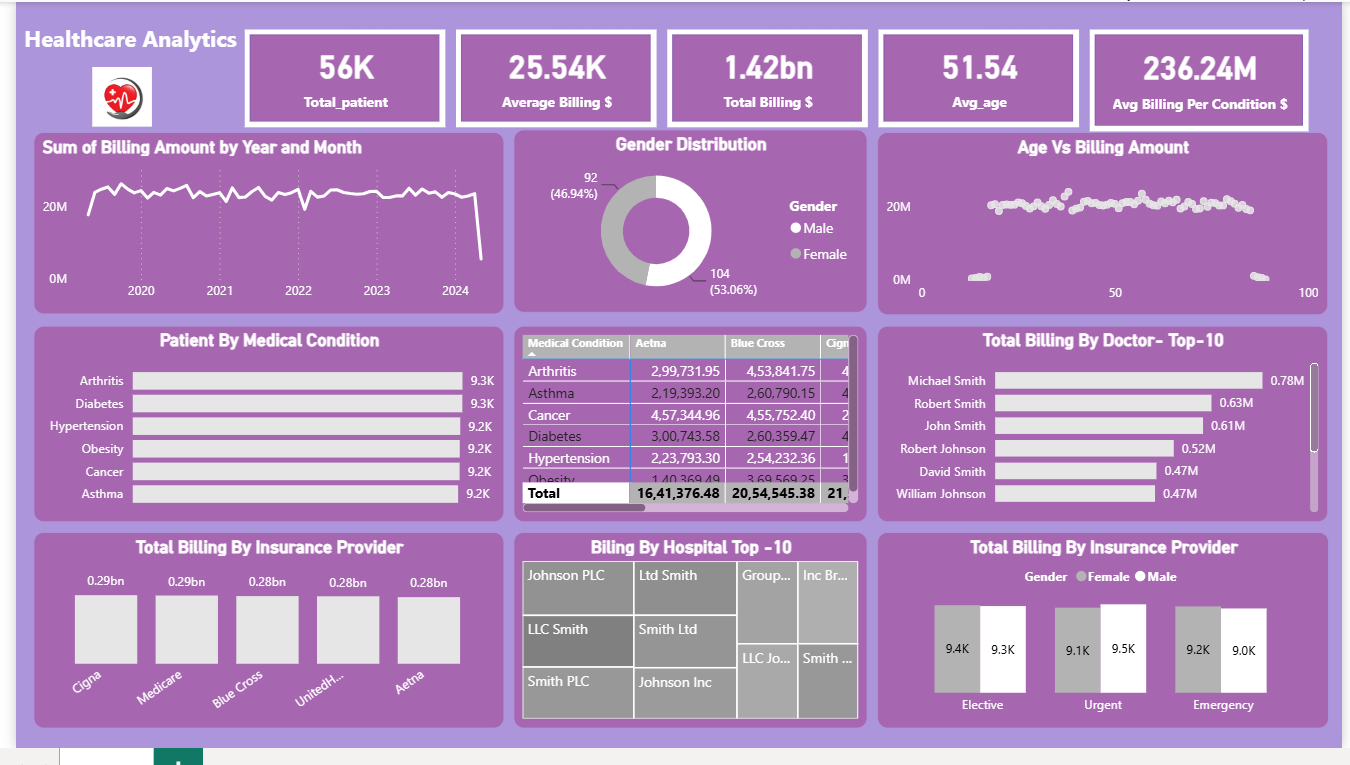

This screenshot's page, from the dashboard's own definition file:
{"tool":"powerbi","page":{"name":"Page 1","canvas":[1280,720],"ordinal":0},"visuals":[{"type":"cardVisual","fields":{"Data":["healthcare_dataset.Avg_billing_per_condition"]},"box":[1036,26.1,211.3,98.8],"z":1000},{"type":"cardVisual","fields":{"Data":["healthcare_dataset.Total_patient"]},"box":[220.4,26.1,193.5,94.7],"z":2000},{"type":"cardVisual","fields":{"Data":["healthcare_dataset.Avg_billing"]},"box":[424.3,26.1,193.5,94.7],"z":3000},{"type":"cardVisual","fields":{"Data":["healthcare_dataset.total_billing"]},"box":[628.2,26.1,193.5,94.7],"z":4000},{"type":"cardVisual","fields":{"Data":["healthcare_dataset.Avg_age"]},"box":[832.1,26.1,193.5,94.7],"z":5000},{"type":"lineChart","fields":{"Y":["Sum(healthcare_dataset.Billing Amount)"],"Category":["healthcare_dataset.Date of Admission.Variation.Date Hierarchy.Year","healthcare_dataset.Date of Admission.Variation.Date Hierarchy.Month"]},"box":[16.5,124.9,454.2,175.6],"z":6000},{"type":"clusteredBarChart","title":"Patient By Medical Condition","fields":{"Category":["healthcare_dataset.Medical Condition"],"Y":["CountNonNull(healthcare_dataset.Name)"]},"box":[16.5,312.9,454.2,189.4],"z":7000},{"type":"clusteredColumnChart","title":"Total Billing By Insurance Provider","fields":{"Category":["healthcare_dataset.Insurance Provider"],"Y":["Sum(healthcare_dataset.Billing Amount)"]},"box":[16.5,511.8,454.2,189.4],"z":8000},{"type":"clusteredBarChart","title":"Total Billing By Doctor- Top-10","fields":{"Category":["healthcare_dataset.Doctor"],"Y":["Sum(healthcare_dataset.Billing Amount)"]},"box":[831.6,312.9,435,189.4],"z":9000},{"type":"clusteredColumnChart","title":"Total Billing By Insurance Provider","fields":{"Category":["healthcare_dataset.Admission Type"],"Y":["CountNonNull(healthcare_dataset.Name)"],"Series":["healthcare_dataset.Gender"]},"box":[831.6,511.8,436.4,189.4],"z":10000},{"type":"donutChart","title":"Gender Distribution","fields":{"Category":["healthcare_dataset.Gender"],"Y":["CountNonNull(healthcare_dataset.Name)"]},"box":[480.3,123.5,341.7,177],"z":11000},{"type":"scatterChart","title":"Age Vs Billing Amount","fields":{"X":["healthcare_dataset.Age"],"Y":["Sum(healthcare_dataset.Billing Amount)"]},"box":[831.6,124.9,435,177],"z":12000},{"type":"treemap","title":"Biling By Hospital Top -10","fields":{"Values":["Sum(healthcare_dataset.Billing Amount)"],"Group":["healthcare_dataset.Hospital"]},"box":[480.3,511.8,341.7,189.4],"z":13000},{"type":"pivotTable","title":"Biling By Hospital Top -10","fields":{"Rows":["healthcare_dataset.Medical Condition"],"Columns":["healthcare_dataset.Insurance Provider"],"Values":["Sum(healthcare_dataset.Billing Amount)"]},"box":[480.3,312.9,341.7,189.4],"z":14000},{"type":"image","box":[0,57.6,204.5,67.2],"z":14001},{"type":"textbox","box":[0,15.1,220.9,59],"z":14002}]}

Visuals, with their boxes in screenshot pixels (x1, y1, x2, y2), scaled from the page's 1280x720 canvas onto the 1350x765 screenshot:
cardVisual - healthcare_dataset.Avg_billing_per_condition: <bbox>1093, 28, 1316, 133</bbox>
cardVisual - healthcare_dataset.Total_patient: <bbox>232, 28, 437, 128</bbox>
cardVisual - healthcare_dataset.Avg_billing: <bbox>448, 28, 652, 128</bbox>
cardVisual - healthcare_dataset.total_billing: <bbox>663, 28, 867, 128</bbox>
cardVisual - healthcare_dataset.Avg_age: <bbox>878, 28, 1082, 128</bbox>
lineChart - Sum(healthcare_dataset.Billing Amount) x healthcare_dataset.Date of Admission.Variation.Date Hierarchy.Year: <bbox>17, 133, 496, 319</bbox>
"Patient By Medical Condition" clusteredBarChart: <bbox>17, 332, 496, 534</bbox>
"Total Billing By Insurance Provider" clusteredColumnChart: <bbox>17, 544, 496, 745</bbox>
"Total Billing By Doctor- Top-10" clusteredBarChart: <bbox>877, 332, 1336, 534</bbox>
"Total Billing By Insurance Provider" clusteredColumnChart: <bbox>877, 544, 1337, 745</bbox>
"Gender Distribution" donutChart: <bbox>507, 131, 867, 319</bbox>
"Age Vs Billing Amount" scatterChart: <bbox>877, 133, 1336, 321</bbox>
"Biling By Hospital Top -10" treemap: <bbox>507, 544, 867, 745</bbox>
"Biling By Hospital Top -10" pivotTable: <bbox>507, 332, 867, 534</bbox>
image: <bbox>0, 61, 216, 133</bbox>
textbox: <bbox>0, 16, 233, 79</bbox>
